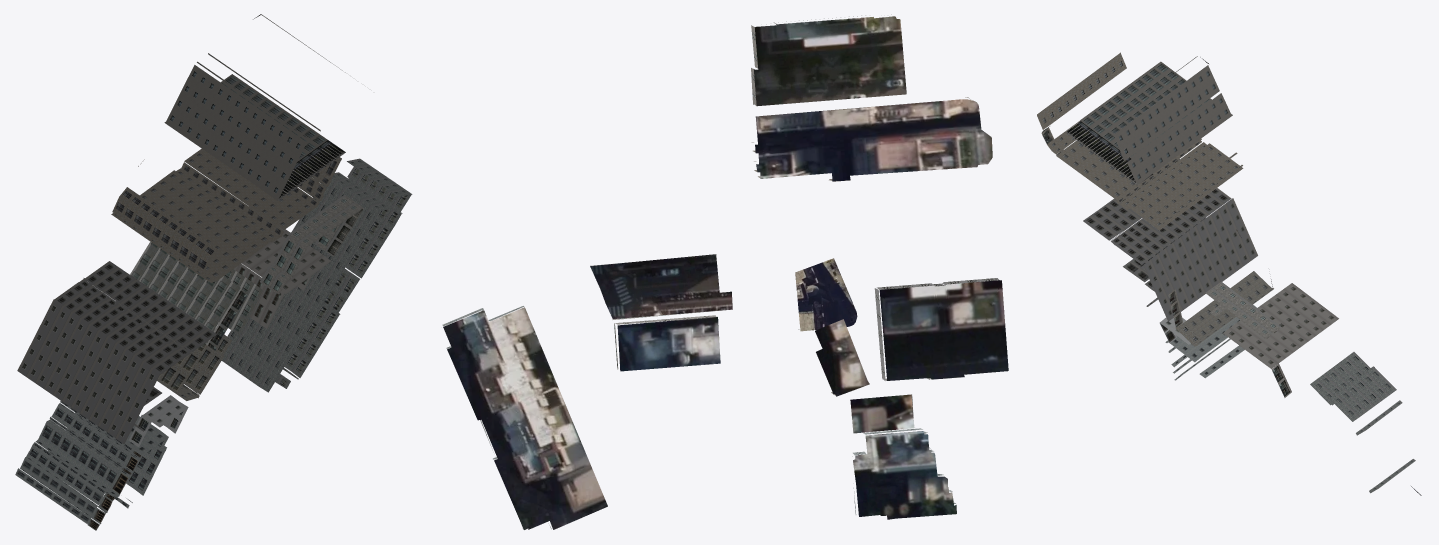
The model's file is tile_LOD4_r5_c12.glb.
3 views of the same model, side by side, from view 1: azimuth 30°, elevation 25°; view 2: azimuth 150°, elevation 25°; view 3: azimuth 270°, elevation 25° (orthographic). The views are drawn at different scales.
Bounding box in the file's own units: 164 × 155 × 131.
48 materials, 48 textured.
